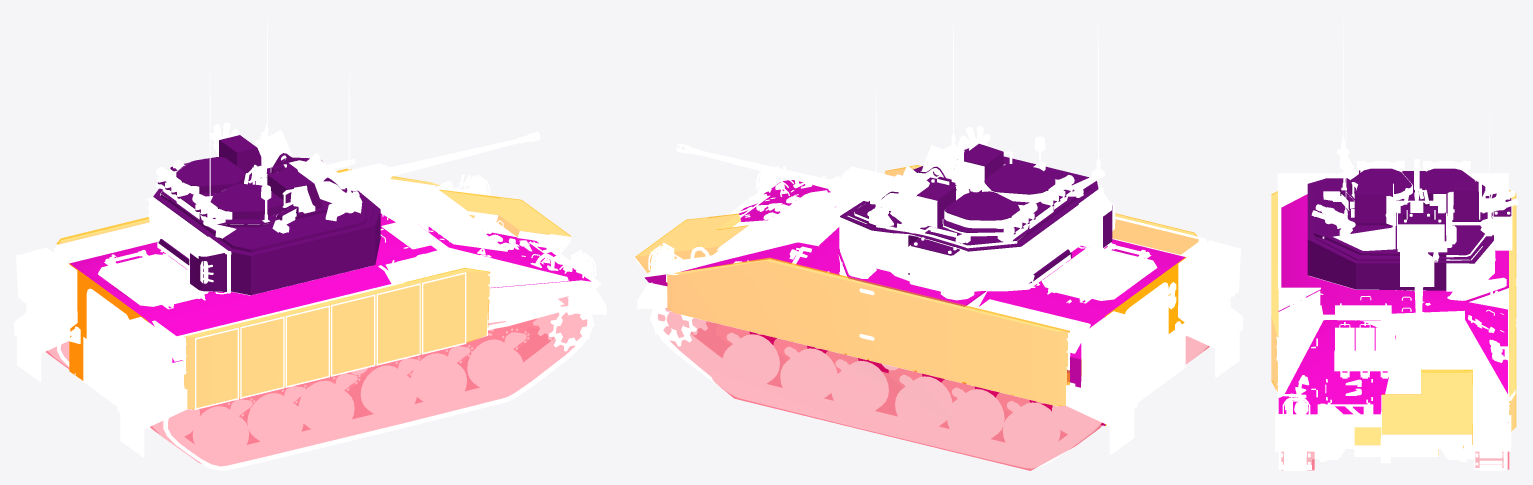
The model's file is FV520CTAS.gltf.
The picture shows the model from 3 angles, left to right: view 1: azimuth 30°, elevation 25°; view 2: azimuth 150°, elevation 25°; view 3: azimuth 270°, elevation 25°; orthographic projection. The views are drawn at different scales.
Visible parts, largest first — view 1: 27, 27_4, FV510_trackright_col3, FV510_UA_col_1, FV510_turret_ctas_col_71, 27_5, FV510_col, 27_2.001, 27_7, FV510_UA_col, FV510_col_1, FV510_col_2; view 2: 27, 27_4, FV510_UA_col_1, FV510_trackleft_col3, 27_5, FV510_turret_ctas_col_71, FV510_col, 27_3, 27_7, FV510_UA_col, FV510_col_1, FV510_col_2; view 3: 27, FV510_turret_ctas_col_71, 27_4, 27_5, FV510_col, FV510_UA_col, FV510_col_2, 27_7, FV510_UA_col_1, 27_3, 27_2.001.
Boxes of the visible parts, bbox=[...] form: 27: bbox=[14, 175, 606, 462]; 27_4: bbox=[56, 170, 571, 409]; FV510_trackright_col3: bbox=[150, 296, 586, 465]; FV510_UA_col_1: bbox=[56, 168, 490, 409]; FV510_turret_ctas_col_71: bbox=[153, 135, 380, 295]; 27_5: bbox=[146, 19, 369, 295]; FV510_col: bbox=[70, 213, 588, 362]; 27_2.001: bbox=[152, 296, 593, 470]; 27_7: bbox=[289, 131, 540, 200]; FV510_UA_col: bbox=[439, 189, 571, 236]; FV510_col_1: bbox=[69, 263, 148, 380]; FV510_col_2: bbox=[428, 186, 590, 281]; 27: bbox=[637, 166, 1242, 459]; 27_4: bbox=[635, 166, 1198, 406]; FV510_UA_col_1: bbox=[667, 165, 1198, 406]; FV510_trackleft_col3: bbox=[658, 308, 1103, 470]; 27_5: bbox=[839, 20, 1115, 293]; FV510_turret_ctas_col_71: bbox=[840, 143, 1112, 283]; FV510_col: bbox=[644, 227, 1185, 425]; 27_3: bbox=[651, 308, 1101, 468]; 27_7: bbox=[676, 143, 930, 210]; FV510_UA_col: bbox=[635, 213, 748, 272]; FV510_col_1: bbox=[1081, 257, 1186, 425]; FV510_col_2: bbox=[681, 180, 836, 271]; 27: bbox=[1275, 173, 1511, 466]; FV510_turret_ctas_col_71: bbox=[1307, 168, 1511, 290]; 27_4: bbox=[1271, 191, 1517, 463]; 27_5: bbox=[1310, 19, 1518, 291]; FV510_col: bbox=[1278, 194, 1508, 405]; FV510_UA_col: bbox=[1354, 369, 1472, 455]; FV510_col_2: bbox=[1278, 320, 1508, 422]; 27_7: bbox=[1397, 224, 1447, 351]; FV510_UA_col_1: bbox=[1271, 190, 1516, 430]; 27_3: bbox=[1474, 451, 1507, 470]; 27_2.001: bbox=[1278, 451, 1311, 470].
Bounding box in the file's own units: 6.5 × 4.73 × 3.14.
